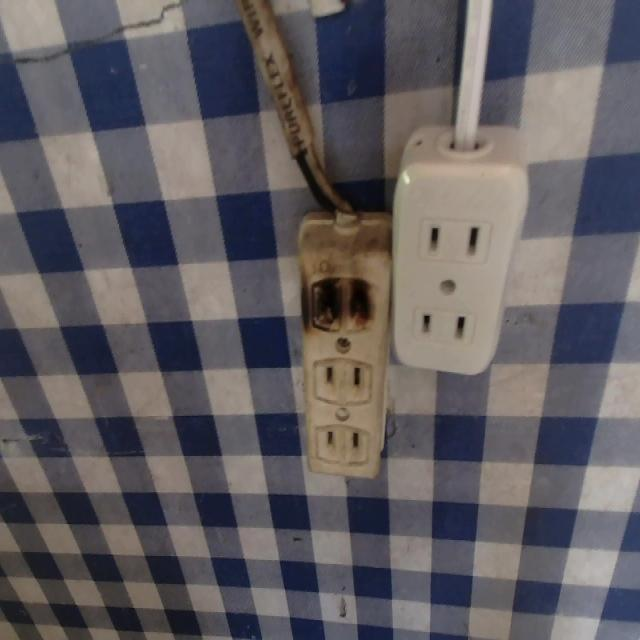-: (302, 265, 385, 339)
